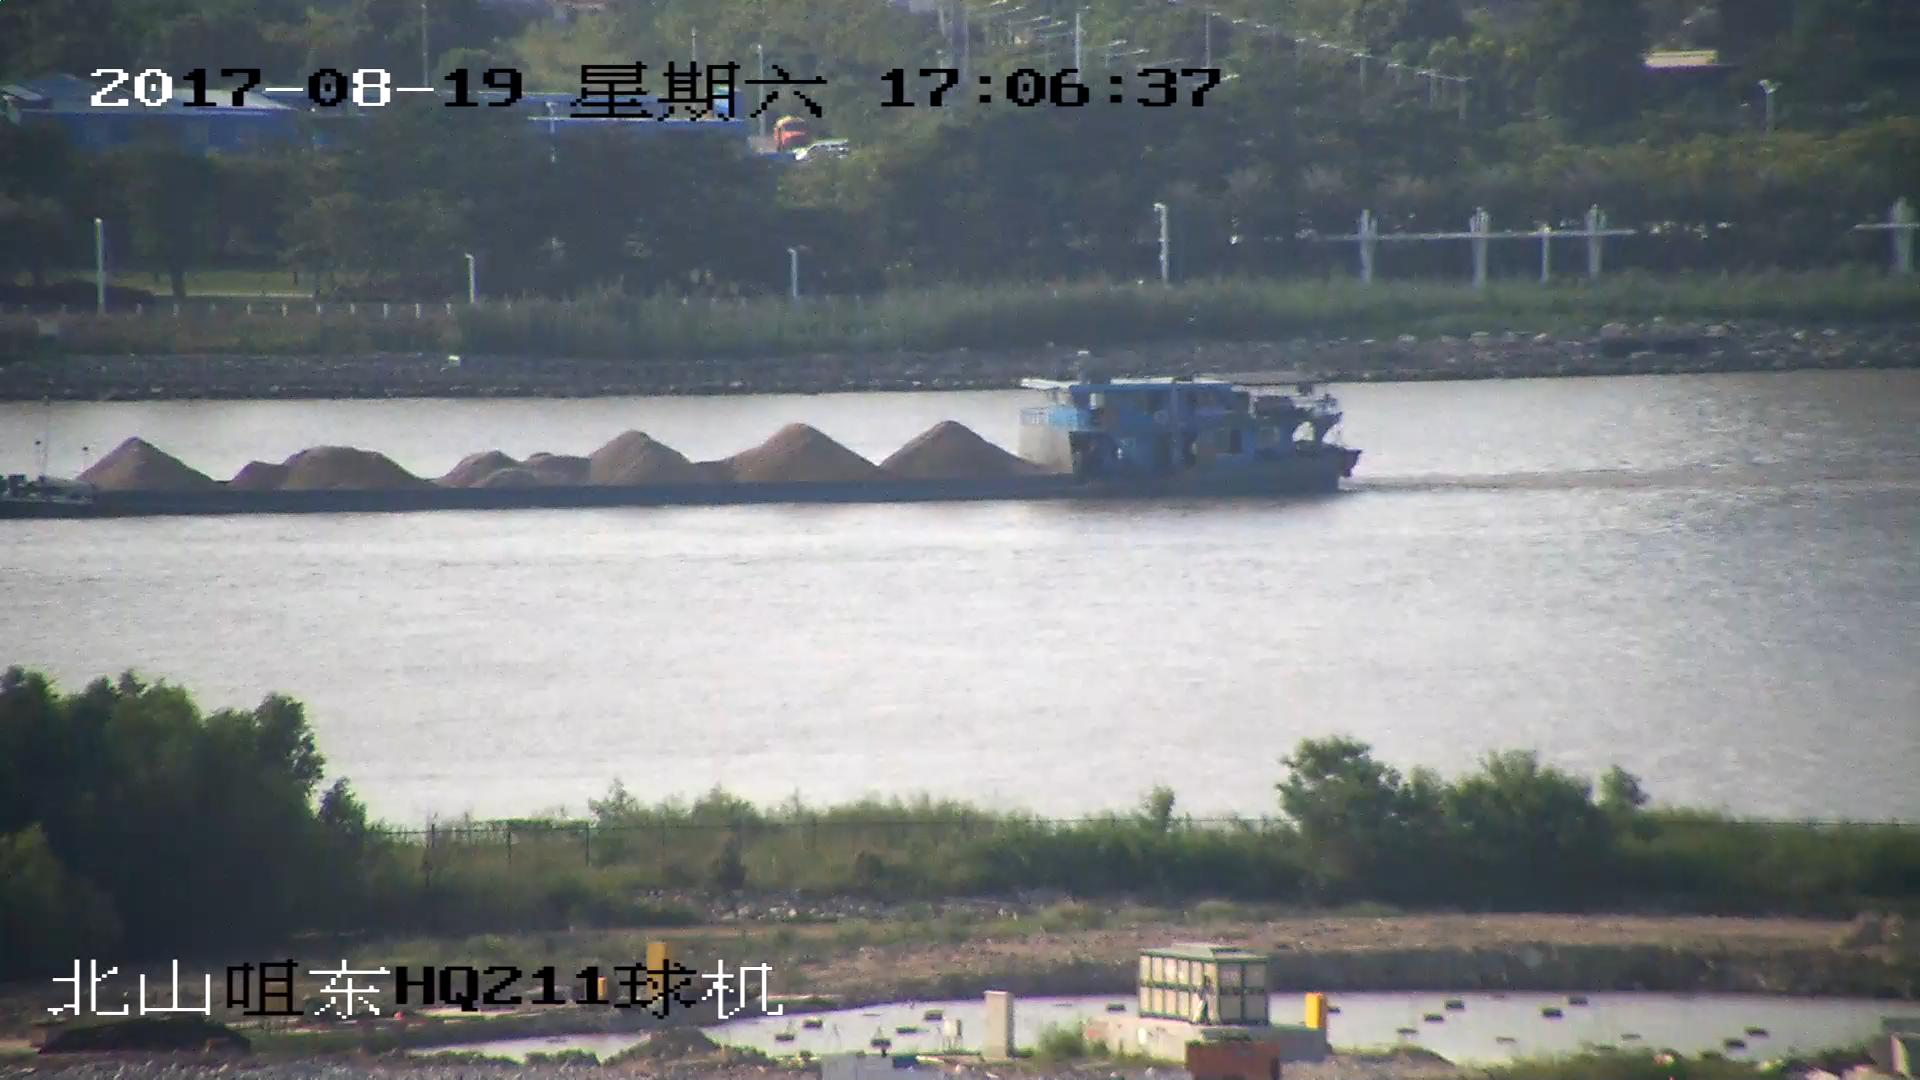ore carrier: (1, 347, 1358, 522)
